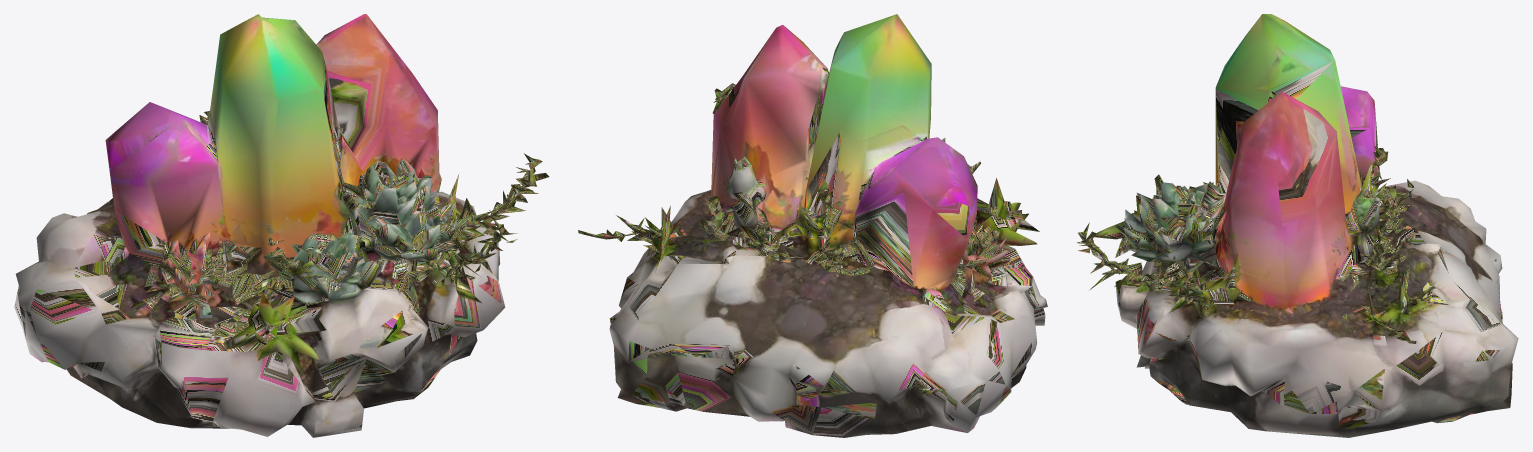
File: a_large_rainbow_cryst.glb
3 renders of one model, left to right at view 1: azimuth 30°, elevation 25°; view 2: azimuth 150°, elevation 25°; view 3: azimuth 270°, elevation 25°, orthographic. The views are drawn at different scales.
Parts seen in each view (by area): view 1: a_large_rainbow_cryst; view 2: a_large_rainbow_cryst; view 3: a_large_rainbow_cryst.
Boxes of the visible parts, left/top/right/bottom form: a_large_rainbow_cryst: left=14, top=14, right=549, bottom=437; a_large_rainbow_cryst: left=578, top=14, right=1047, bottom=437; a_large_rainbow_cryst: left=1077, top=14, right=1518, bottom=437.
Bounding box in the file's own units: 1.95 × 1.65 × 1.91.
1 material, 1 textured.
